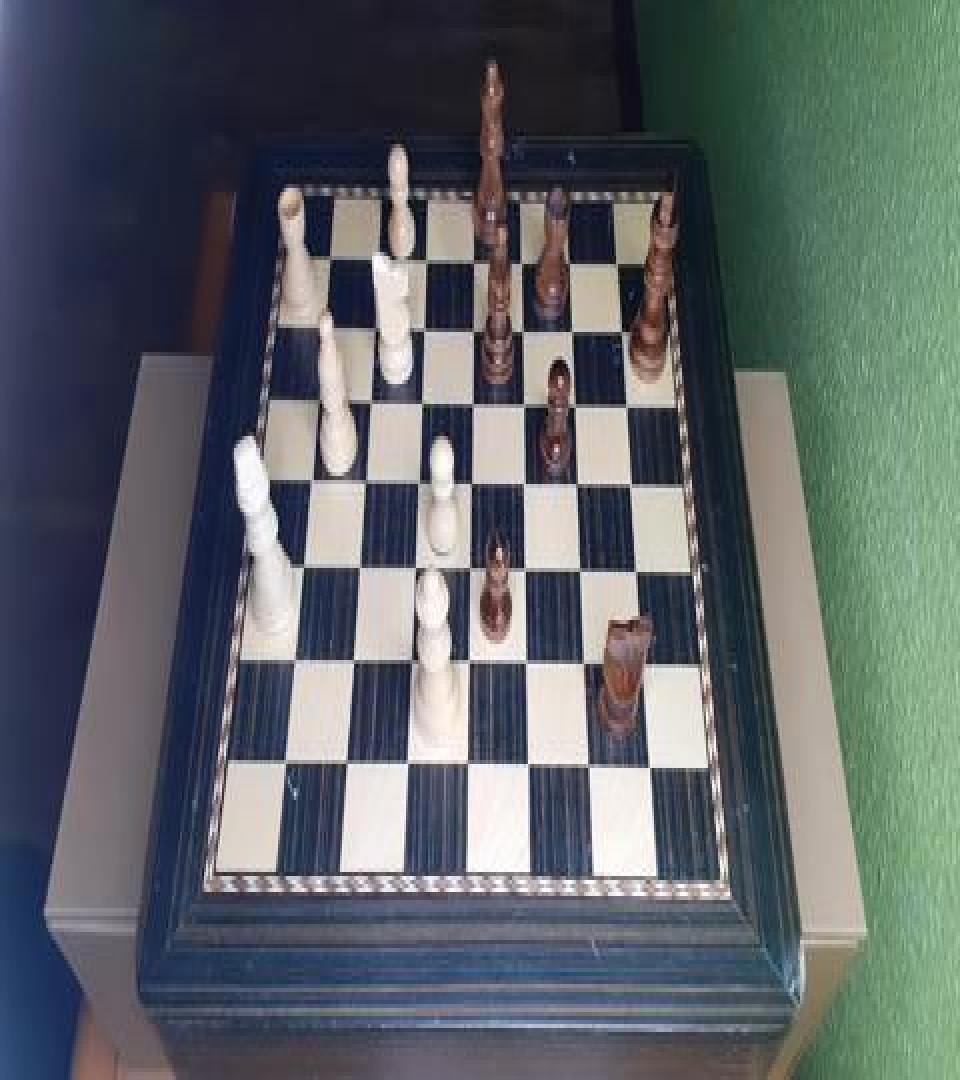xcorner: (613, 252, 627, 280), (565, 250, 579, 278), (517, 248, 531, 276), (468, 248, 482, 276), (420, 246, 434, 274), (371, 246, 385, 274), (323, 244, 337, 272), (617, 320, 631, 348), (567, 320, 581, 348), (518, 318, 532, 346), (468, 318, 482, 346), (417, 316, 431, 344), (367, 314, 381, 342), (316, 314, 330, 342), (622, 396, 636, 424), (570, 394, 584, 422), (519, 394, 533, 422), (467, 392, 481, 420), (415, 390, 429, 418), (362, 390, 376, 418), (310, 388, 324, 416), (627, 476, 641, 504), (574, 474, 588, 502), (520, 474, 534, 502), (466, 472, 480, 500), (412, 472, 426, 500), (357, 470, 371, 498), (303, 470, 317, 498), (633, 562, 647, 590), (577, 562, 591, 590), (521, 560, 535, 588), (465, 560, 479, 588), (409, 558, 423, 586), (352, 558, 366, 586), (295, 556, 309, 584), (639, 656, 653, 684), (581, 656, 595, 684), (522, 654, 536, 682), (464, 654, 478, 682), (405, 654, 419, 682), (346, 652, 360, 680), (287, 652, 301, 680), (645, 758, 659, 786), (585, 758, 599, 786), (524, 758, 538, 786), (463, 756, 477, 784), (401, 756, 415, 784), (340, 756, 354, 784), (278, 756, 292, 784)
